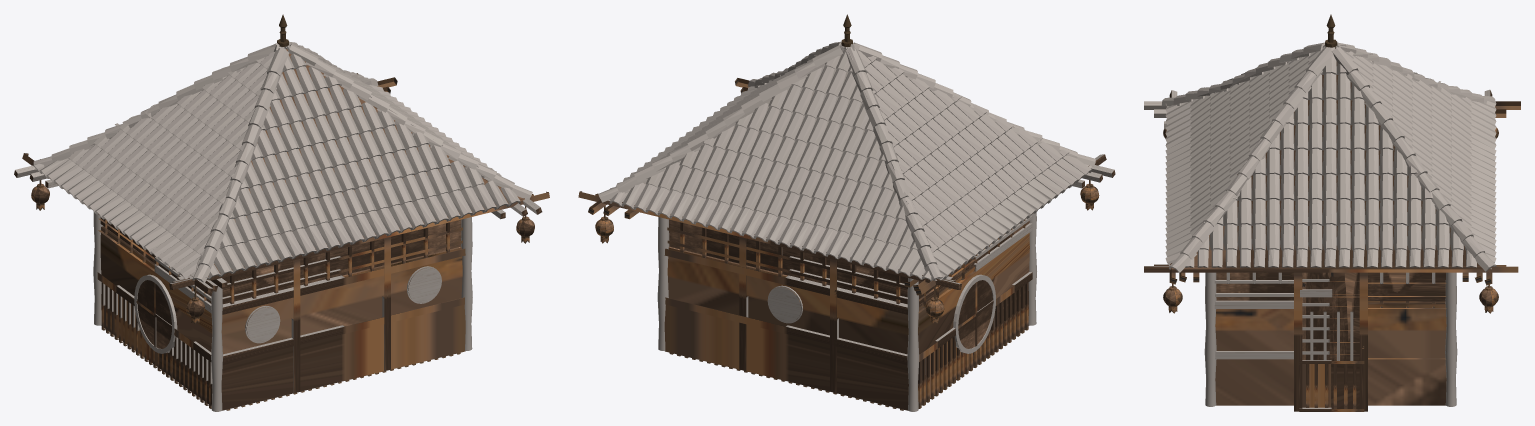
File: PaperHouse.fbx
3 views of the same model, side by side, from view 1: azimuth 30°, elevation 25°; view 2: azimuth 150°, elevation 25°; view 3: azimuth 270°, elevation 25° (orthographic).
Visible parts, largest first — view 1: Plane.218; view 2: Plane.218; view 3: Plane.218.
Boxes of the visible parts, x1,y1,x2,y2 form: Plane.218: [14, 14, 549, 411]; Plane.218: [578, 14, 1115, 411]; Plane.218: [1144, 14, 1520, 411].
Bounding box in the file's own units: 429 × 352 × 361.
